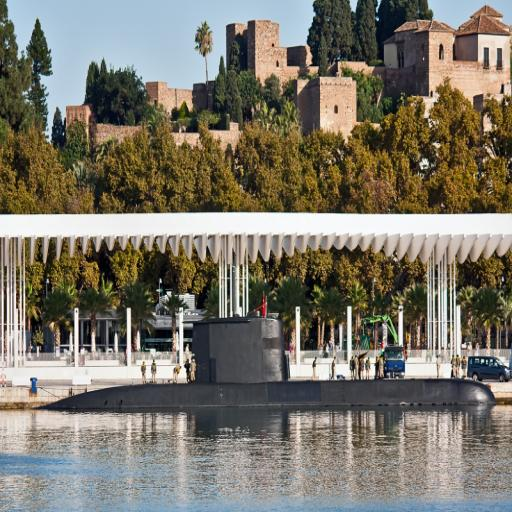submarine: (42, 319, 497, 410)
